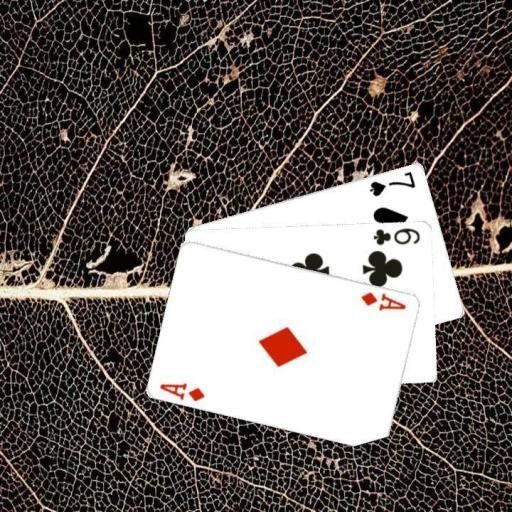card-corner: (366, 168, 418, 198), (370, 224, 422, 247), (157, 379, 206, 403), (358, 289, 408, 312)
